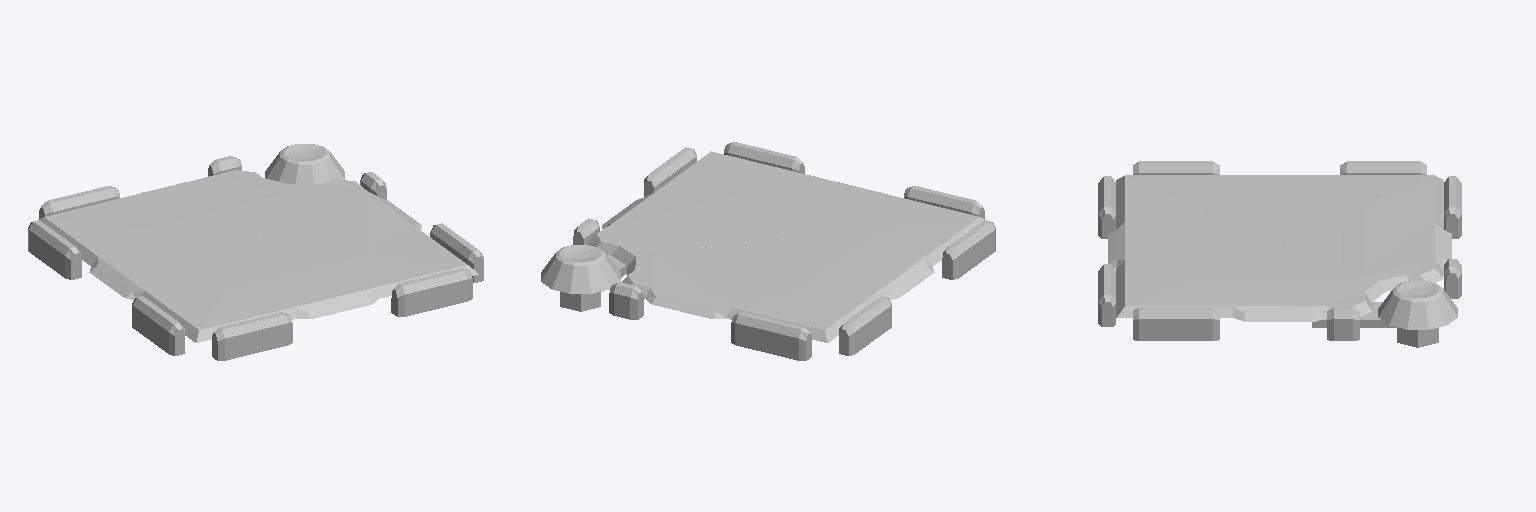
File: ComponentBG.obj
The picture shows the model from 3 angles: view 1: azimuth 30°, elevation 25°; view 2: azimuth 150°, elevation 25°; view 3: azimuth 270°, elevation 25°; orthographic projection.
Visible parts, largest first — view 1: Component_PuzzleBackground_Mesh; view 2: Component_PuzzleBackground_Mesh; view 3: Component_PuzzleBackground_Mesh.
Boxes of the visible parts, x1,y1,x2,y2 form: Component_PuzzleBackground_Mesh: [28, 144, 483, 360]; Component_PuzzleBackground_Mesh: [541, 142, 995, 360]; Component_PuzzleBackground_Mesh: [1098, 161, 1461, 347].
Bounding box in the file's own units: 2 × 0.2933 × 2.